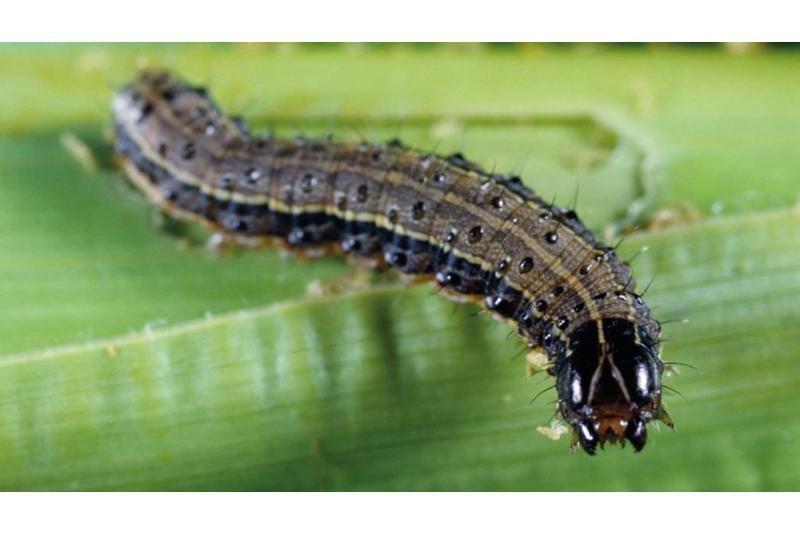fall-armyworm: (109, 67, 677, 456)
